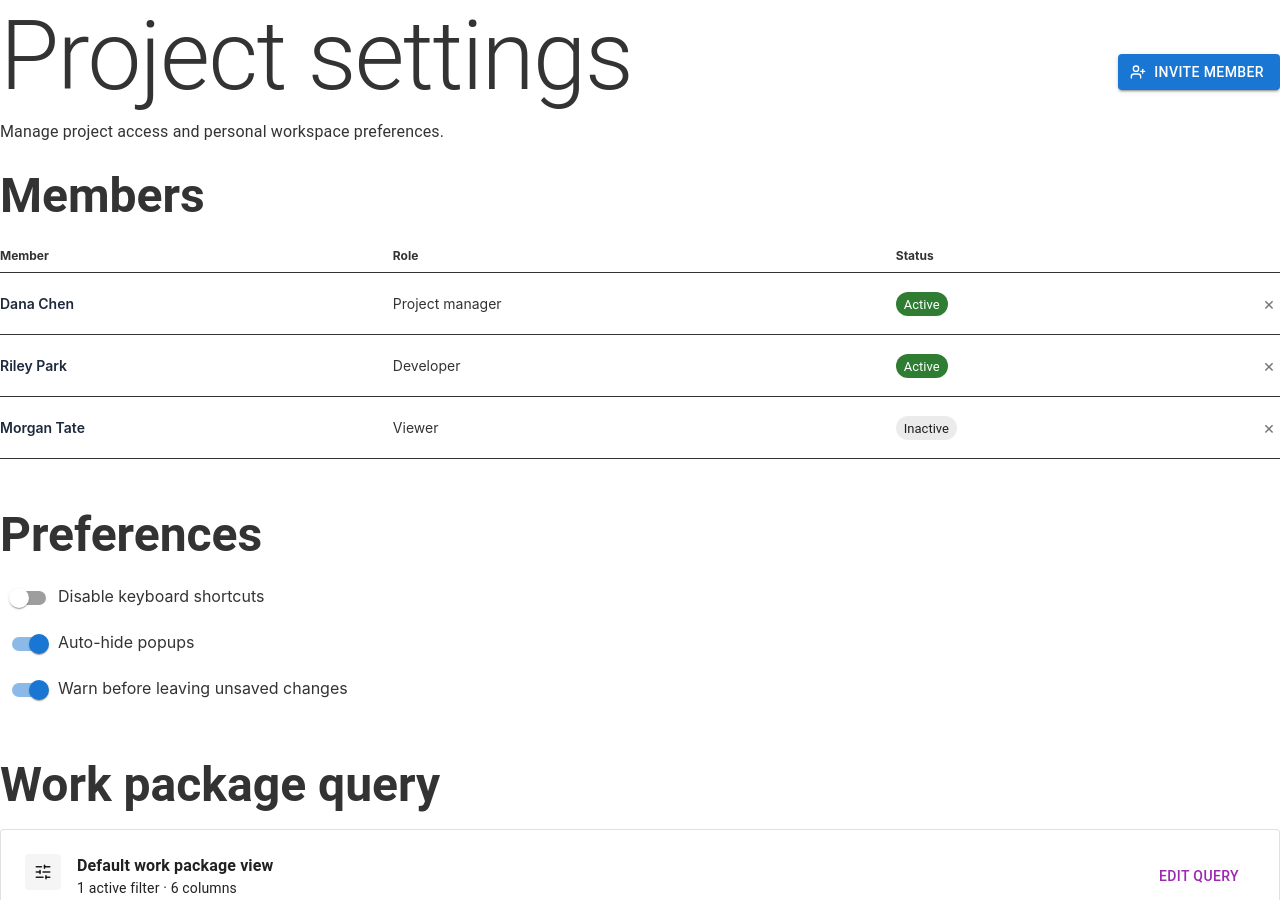
Test case: ProjectSettingsWorkspace › shows member role and active state, invitation, and removal confirmation
Expected: the table named "Project members" is shown, x1=0 y1=240 x2=1279 y2=459
Expected: the text "Project manager" is shown, x1=393 y1=272 x2=896 y2=334
Click the button "Invite member". click: point(1199, 72)
box: x1=1118 y1=54 x2=1279 y2=90
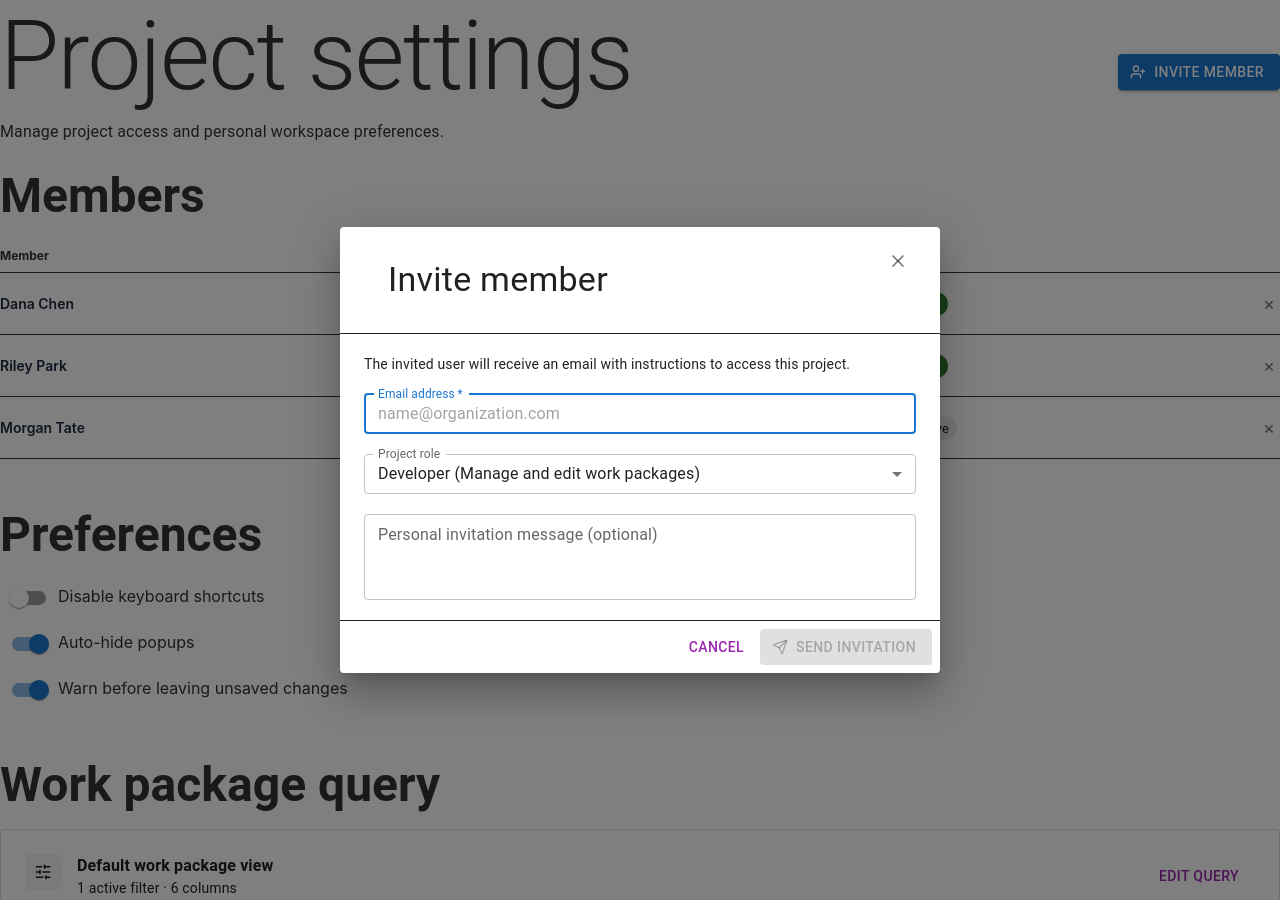
Expected: the dialog "Invite member" is shown, x1=340 y1=227 x2=940 y2=673
Click the button "Cancel". click: point(716, 647)
box: x1=681 y1=629 x2=752 y2=665
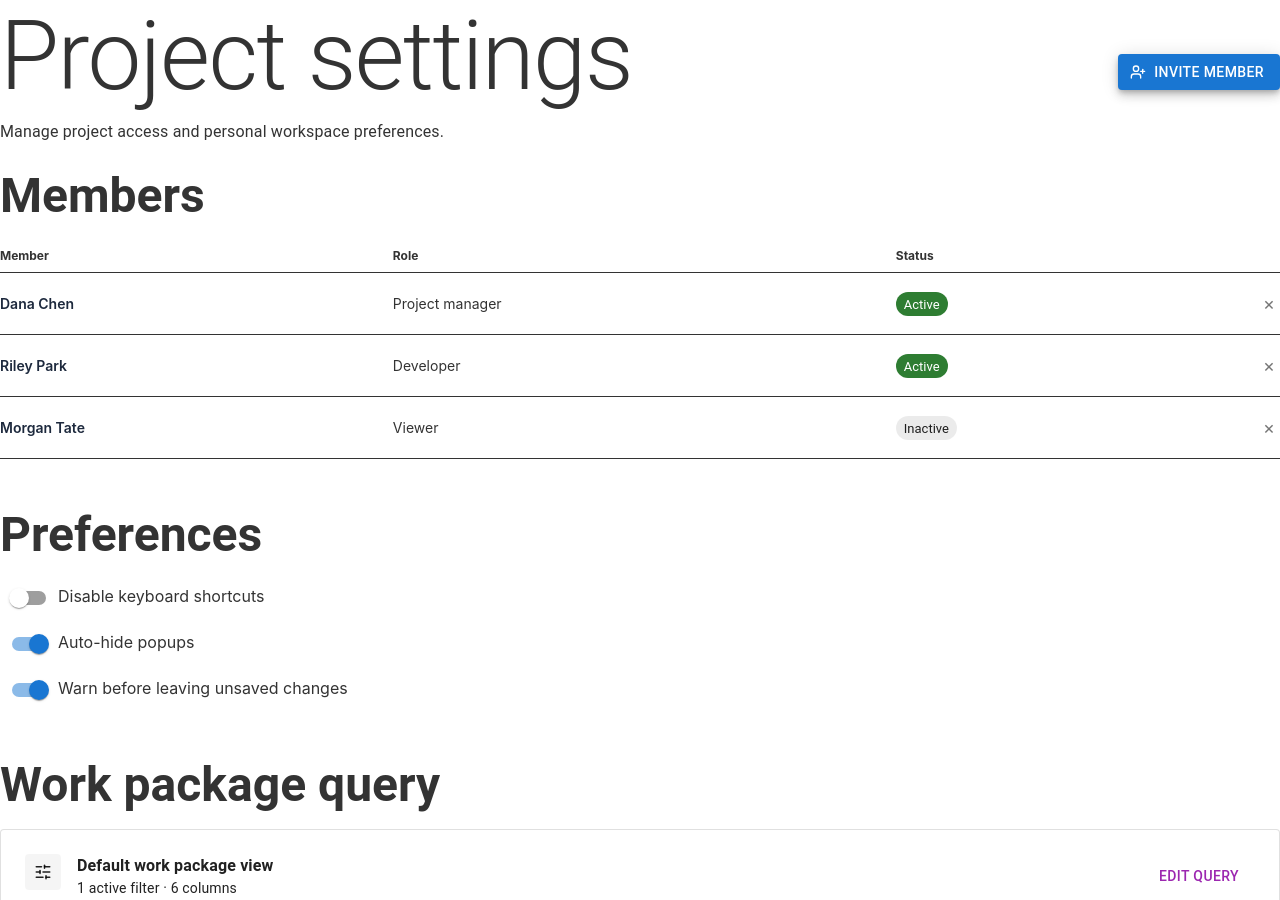
Click the button named "Remove Dana Chen". click: point(1269, 304)
box: x1=1258 y1=285 x2=1279 y2=322
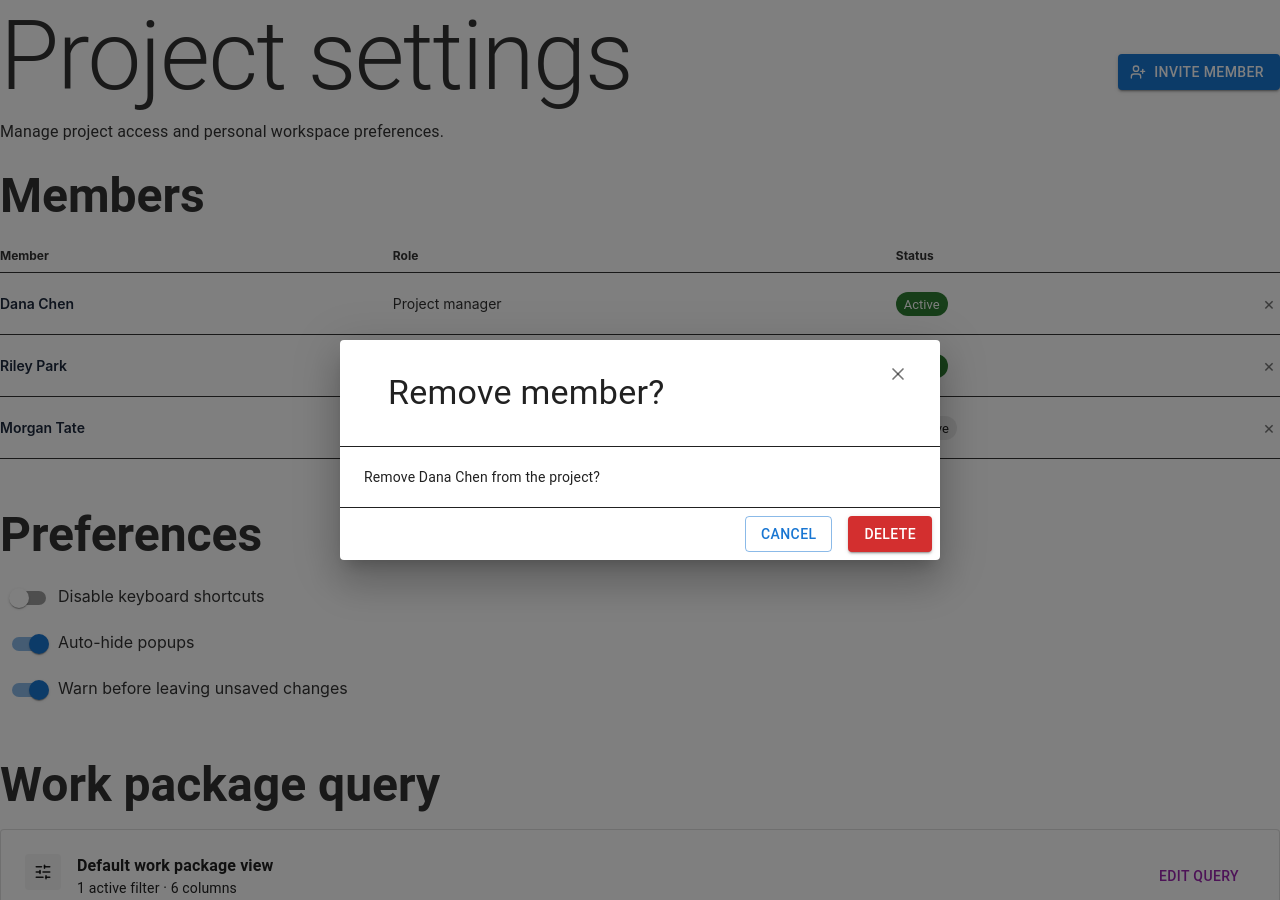
Expected: the dialog "Remove member?" is shown, x1=340 y1=340 x2=940 y2=560
